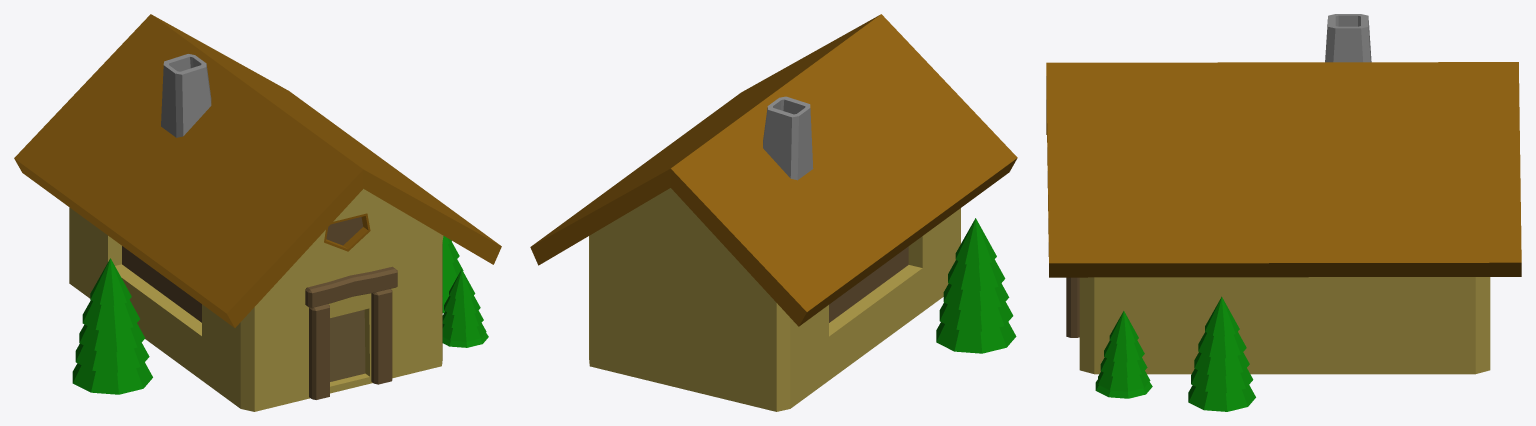
File: SideHouse3.fbx
The picture shows the model from 3 angles, left to right: view 1: azimuth 30°, elevation 25°; view 2: azimuth 150°, elevation 25°; view 3: azimuth 270°, elevation 25°; orthographic projection. The views are drawn at different scales.
Parts seen in each view (by area): view 1: House, Cone; view 2: House, Cone; view 3: House, Cone.
Boxes of the visible parts, <box> form: House: <box>14,14,501,411</box>; Cone: <box>72,236,488,394</box>; House: <box>530,14,1017,411</box>; Cone: <box>936,218,1016,353</box>; House: <box>1046,14,1521,374</box>; Cone: <box>1095,296,1255,411</box>.
Size of the model in its own units: 4231 by 2584 by 4028.
